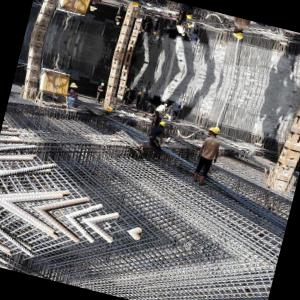helmet: (210, 126, 224, 140), (234, 29, 248, 43), (157, 119, 168, 130), (183, 12, 194, 23), (206, 126, 215, 137), (231, 29, 240, 40)
